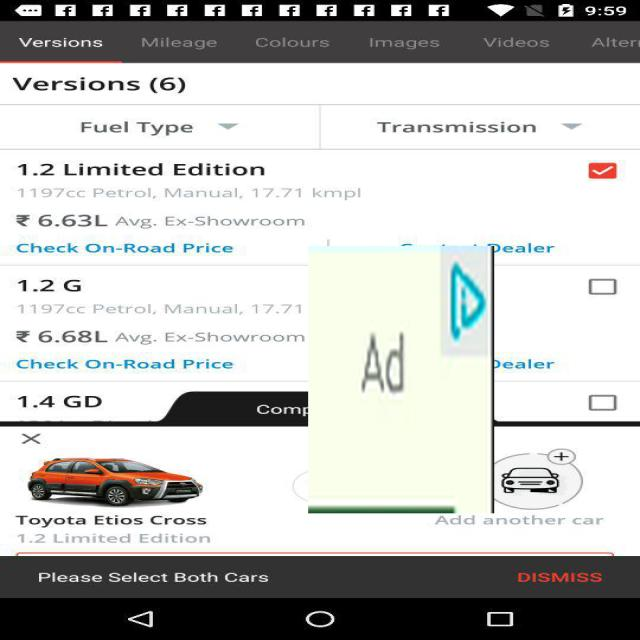sneaking: (308, 246, 494, 513)
